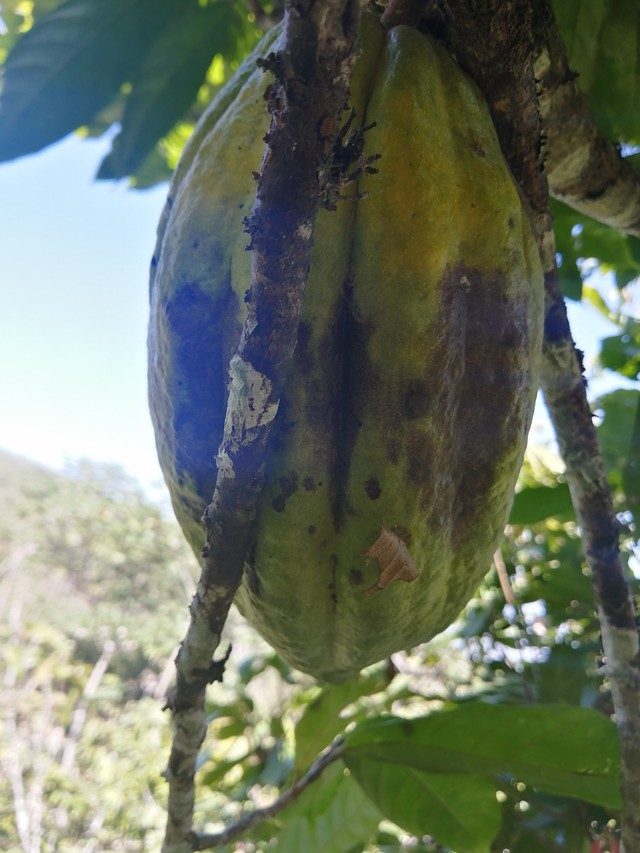moniliophthora perniciosa: (116, 8, 560, 693)
